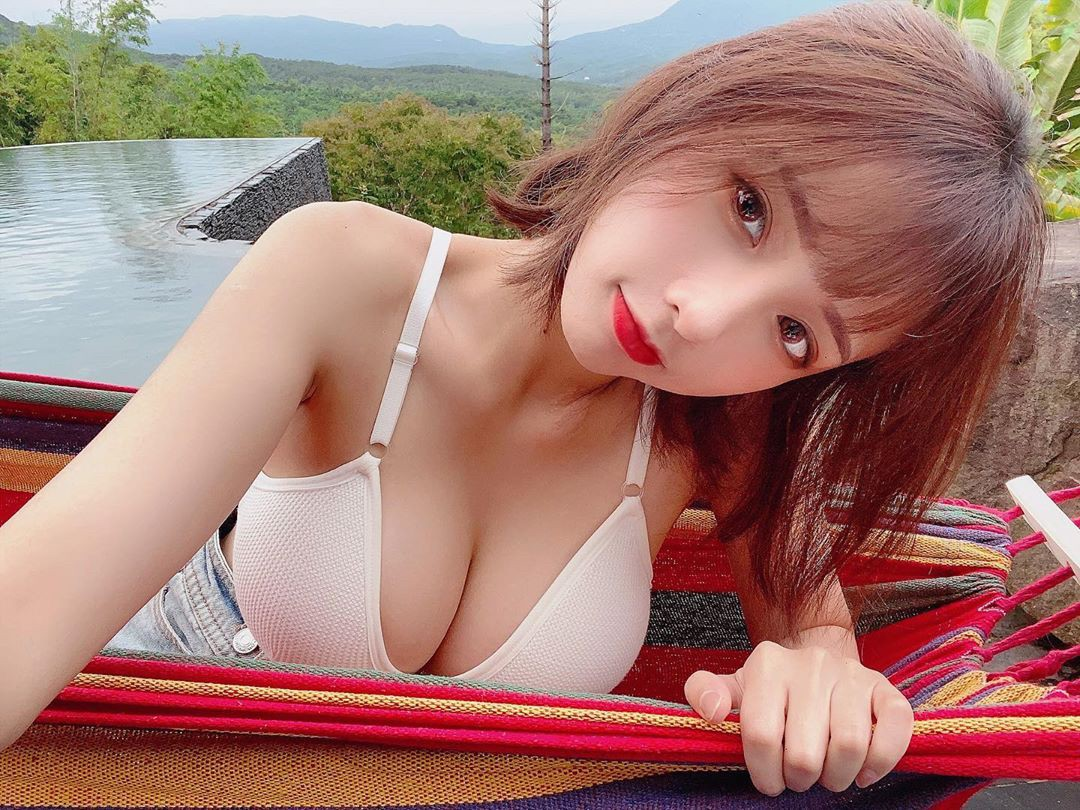people: (190, 34, 1030, 782)
